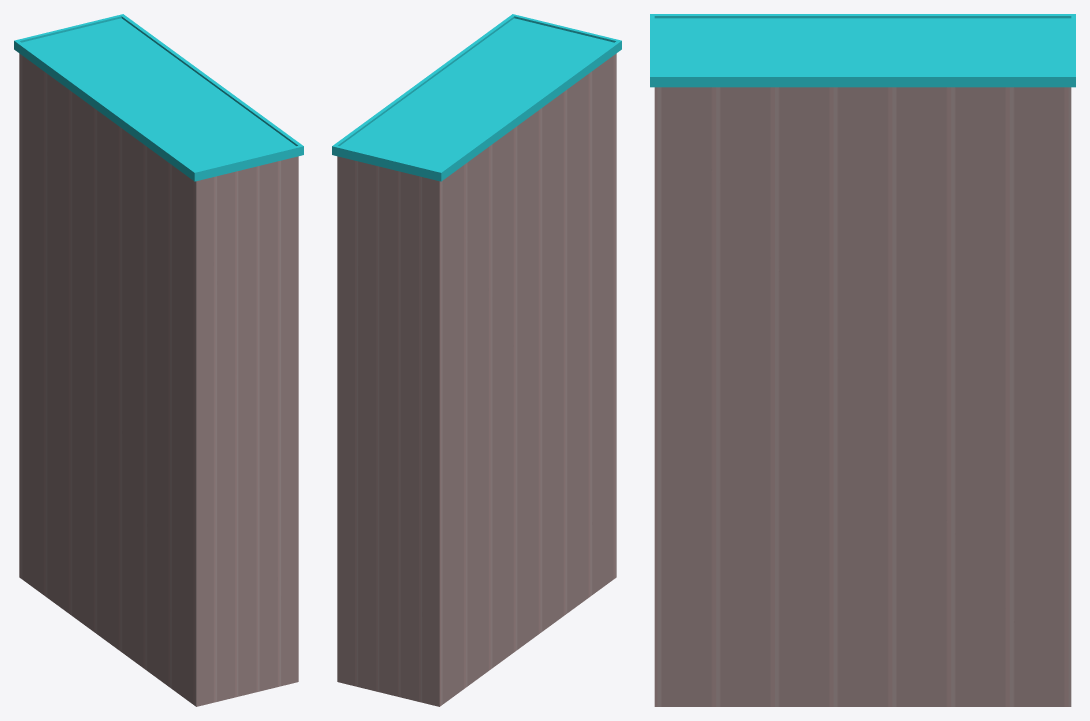
Rendered from Building 15 .fbx.
3 views of the same model, side by side, from view 1: azimuth 30°, elevation 25°; view 2: azimuth 150°, elevation 25°; view 3: azimuth 270°, elevation 25° (orthographic). The views are drawn at different scales.
Parts seen in each view (by area): view 1: Building 15; view 2: Building 15; view 3: Building 15.
Boxes of the visible parts, x1,y1,x2,y2 form: Building 15: (14,14,303,706); Building 15: (332,14,621,706); Building 15: (650,14,1075,706).
Bounding box in the file's own units: 2140 × 10037 × 6129.
